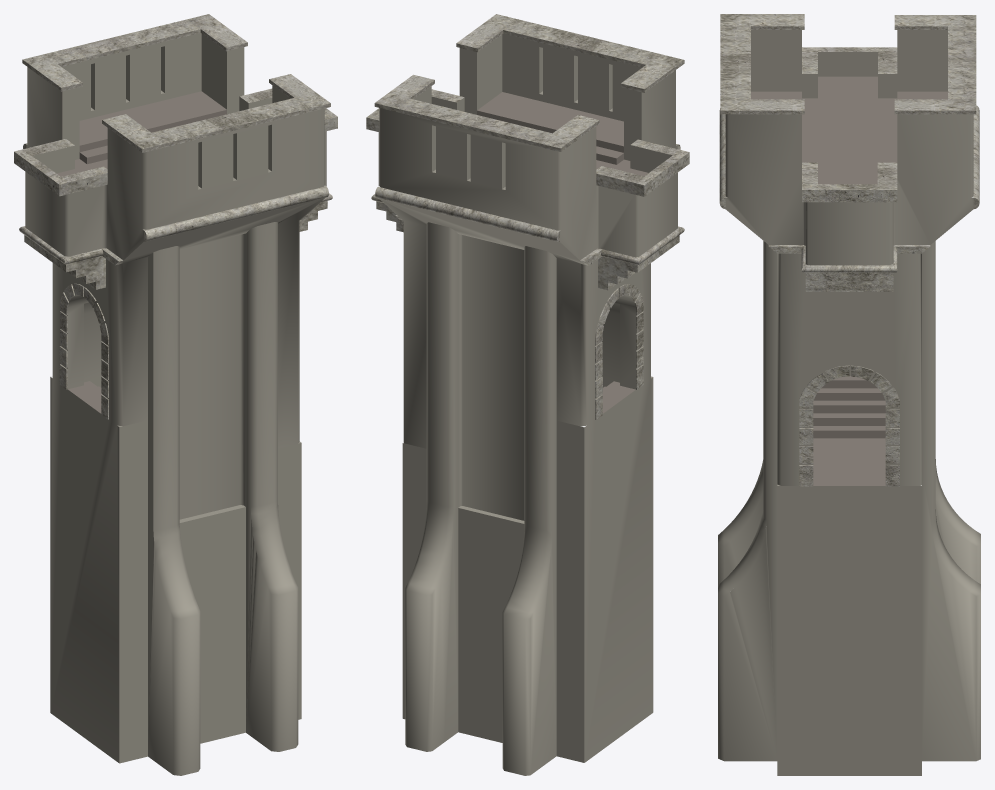
File: Gate_tower.fbx
3 views of the same model, side by side, from view 1: azimuth 30°, elevation 25°; view 2: azimuth 150°, elevation 25°; view 3: azimuth 270°, elevation 25° (orthographic). The views are drawn at different scales.
Parts seen in each view (by area): view 1: Model; view 2: Model; view 3: Model.
Boxes of the visible parts, x1,y1,x2,y2 form: Model: [14, 14, 337, 775]; Model: [366, 14, 689, 775]; Model: [718, 14, 980, 775].
Bounding box in the file's own units: 19.52 × 42.53 × 15.2.
